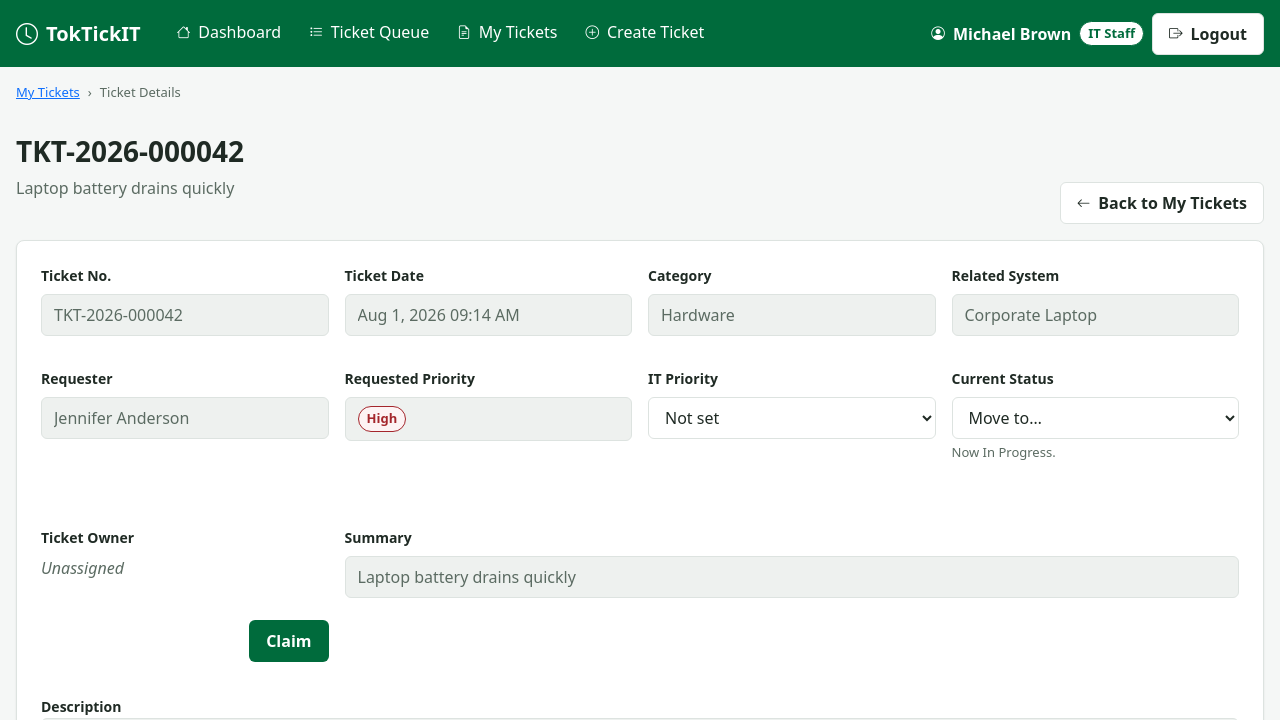
UI-33 a gate refusal updates the checklist › replaces the checklist with the server's list, each message beside its condition, and leaves the status alone
Select "Resolved" in the dropdown labelled "Current Status" at (1095, 418), box [952,397,1239,439]
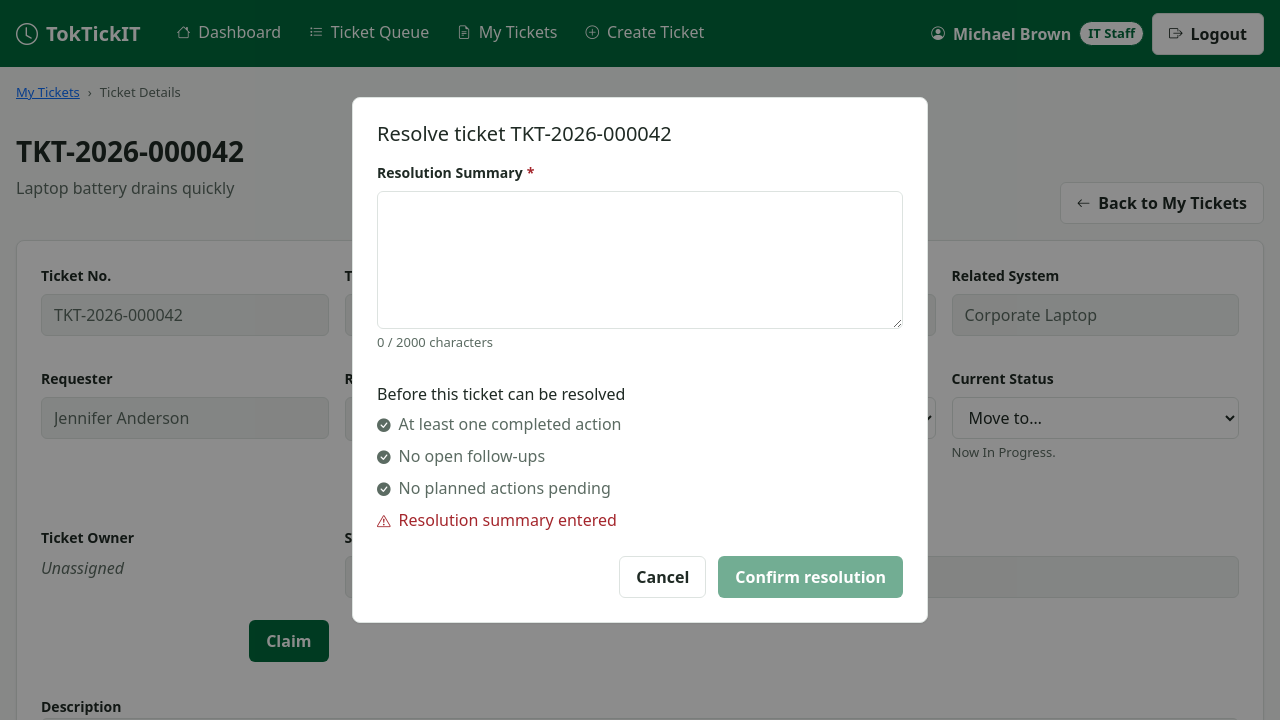
Type "Replaced the access point." into the text box labelled "Resolution Summary*" at (640, 260), box [377,191,903,329]
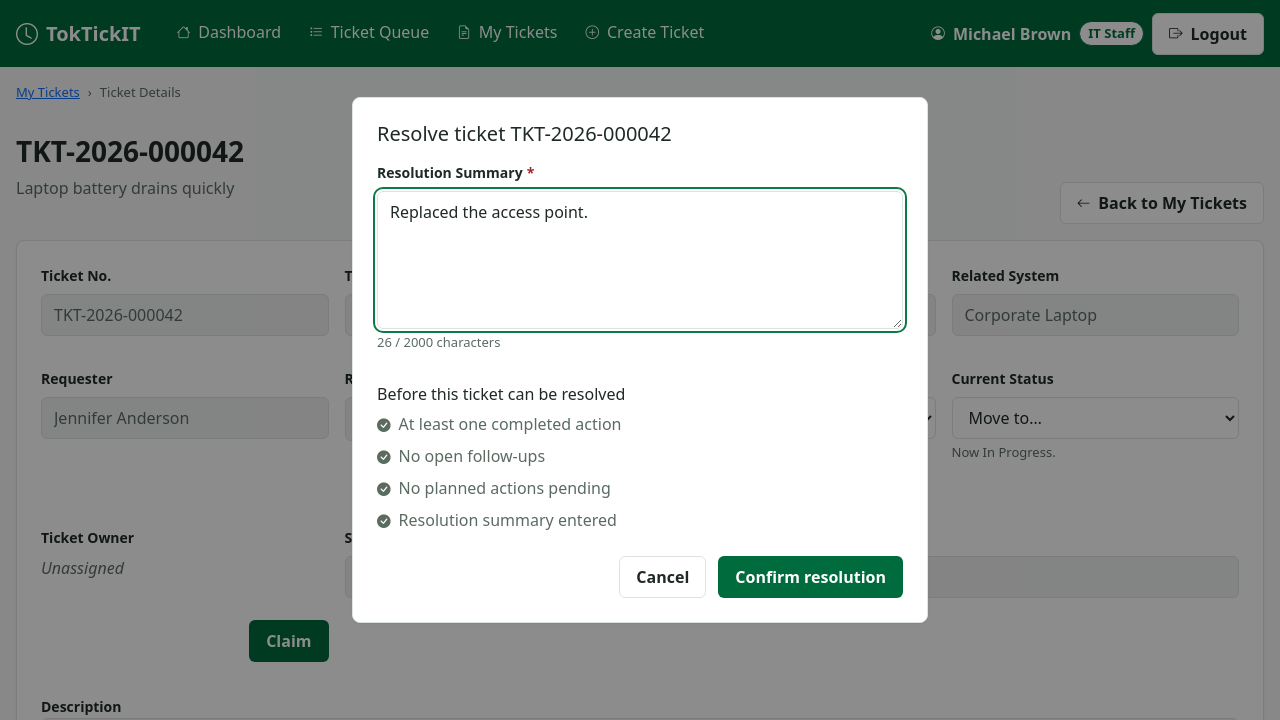
Click the button "Confirm resolution" at (811, 577), box [718,556,903,598]
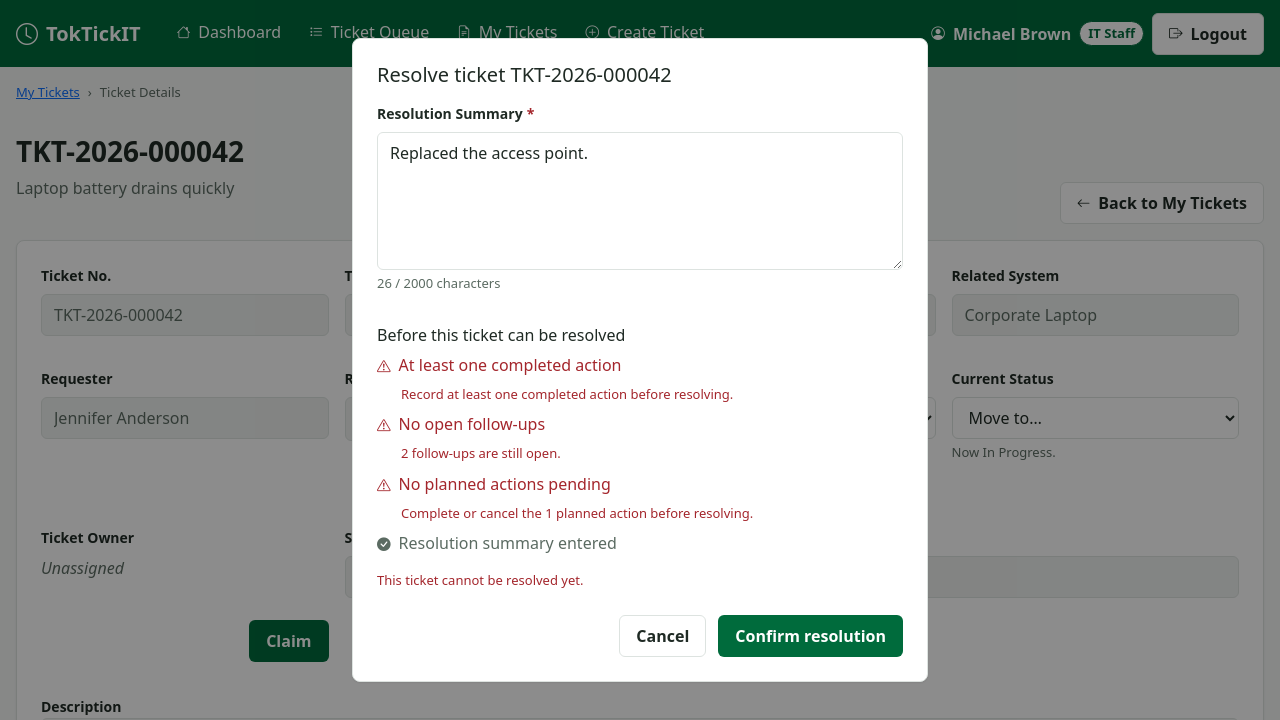
expect the list item that starts with "At least one completed action" shows "Record at least one completed action before resolving.": met, box [401,385,733,403]
expect the list item "No open follow-ups 2 follow-ups are still open." is shown: met, box [377,413,561,462]
expect the list item that starts with "No planned actions pending" shows "Complete or cancel the 1 planned action before resolving.": met, box [401,504,753,522]
